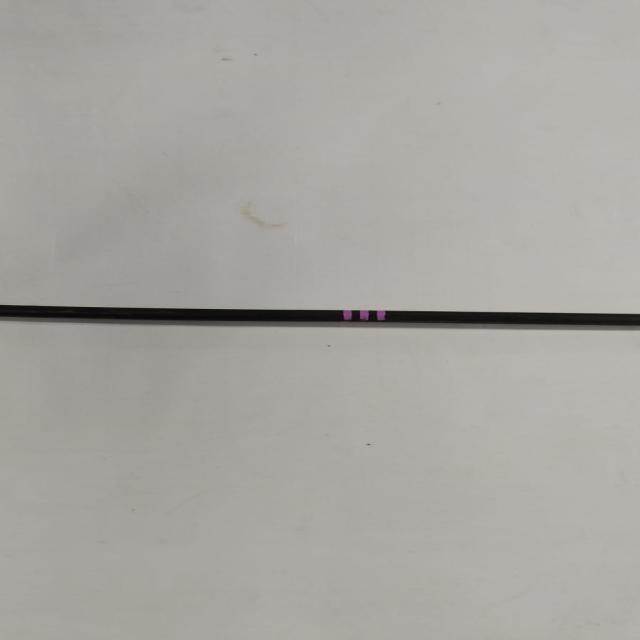pink: (342, 309, 385, 322)
